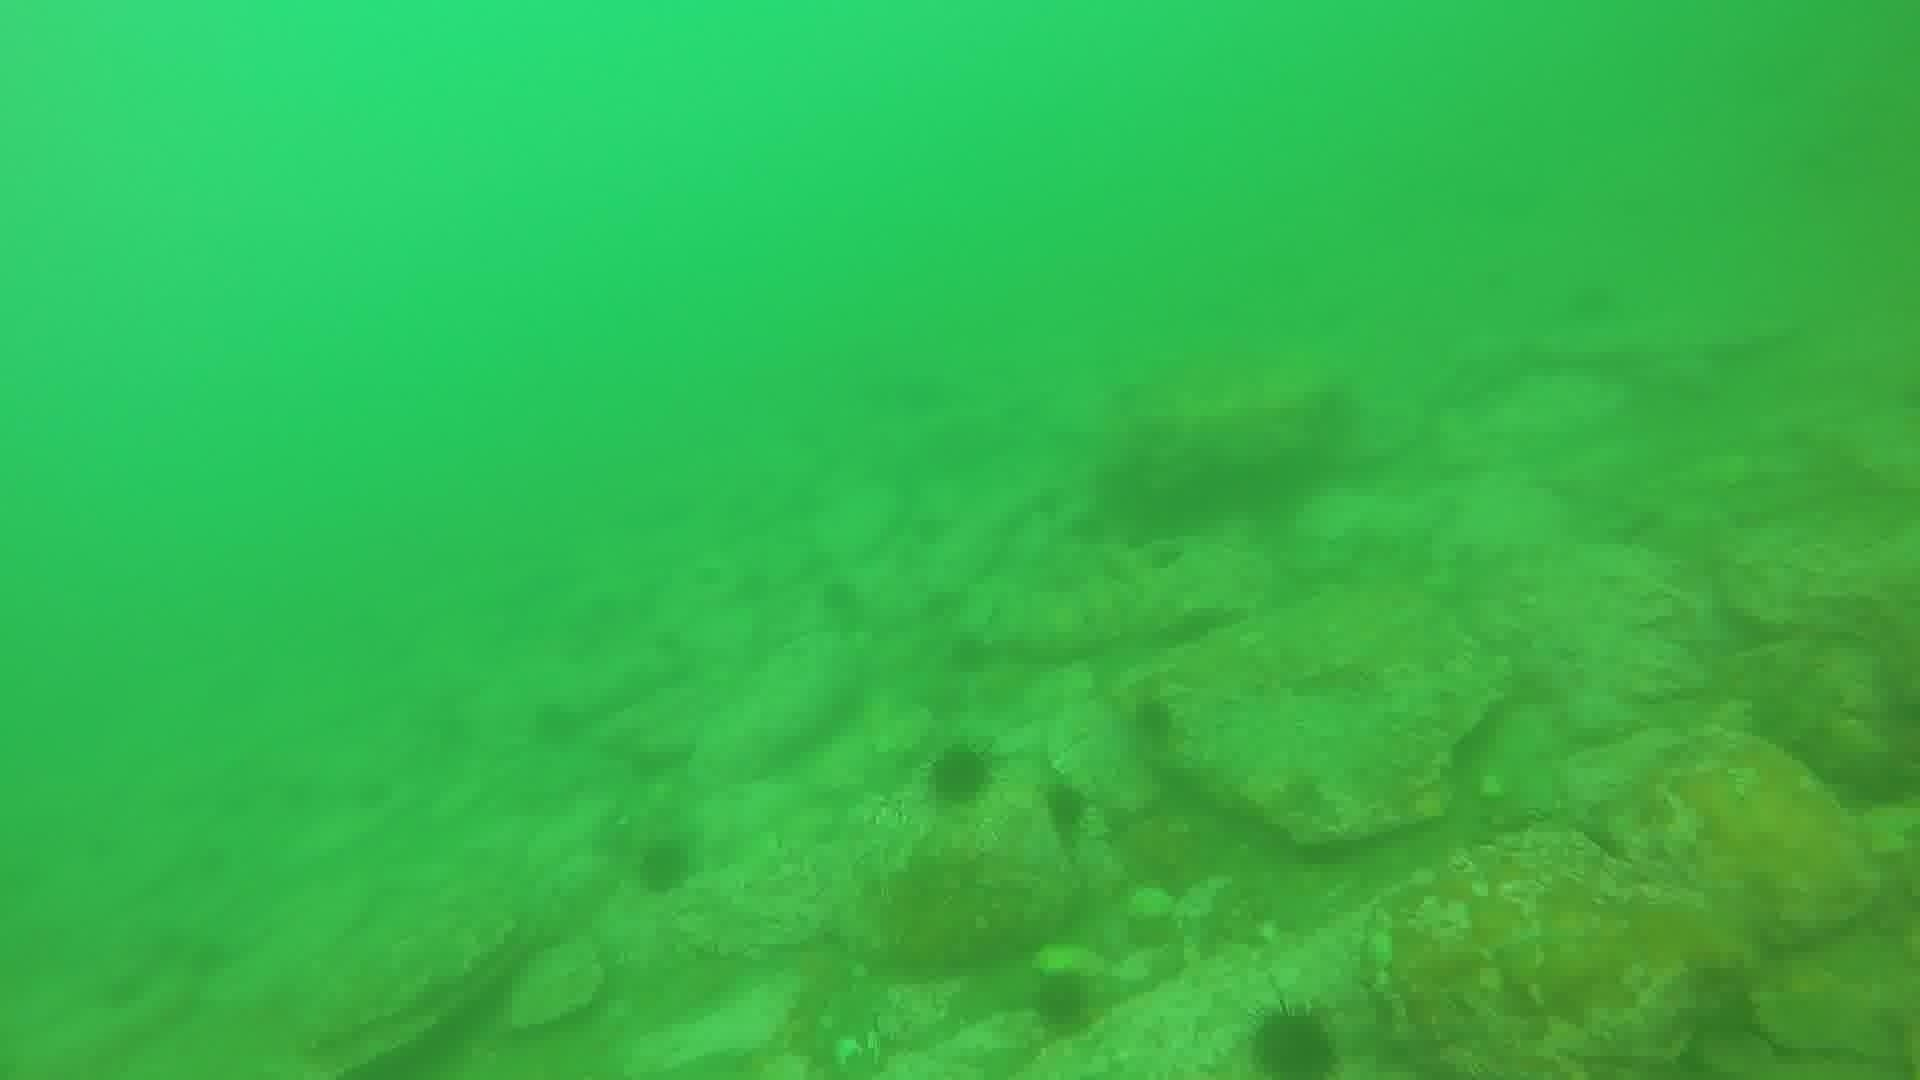echinus: (1242, 1001, 1344, 1077), (1025, 965, 1102, 1040), (920, 737, 1000, 811), (629, 832, 700, 899), (1121, 688, 1185, 756), (1036, 775, 1096, 844)
